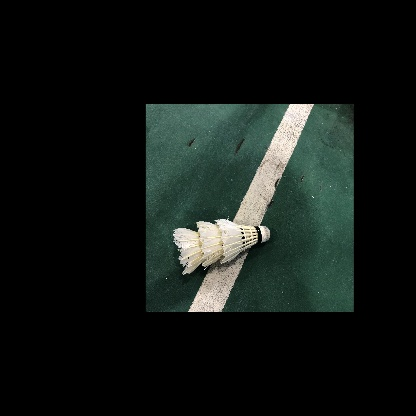ball_single: (173, 219, 270, 276)
